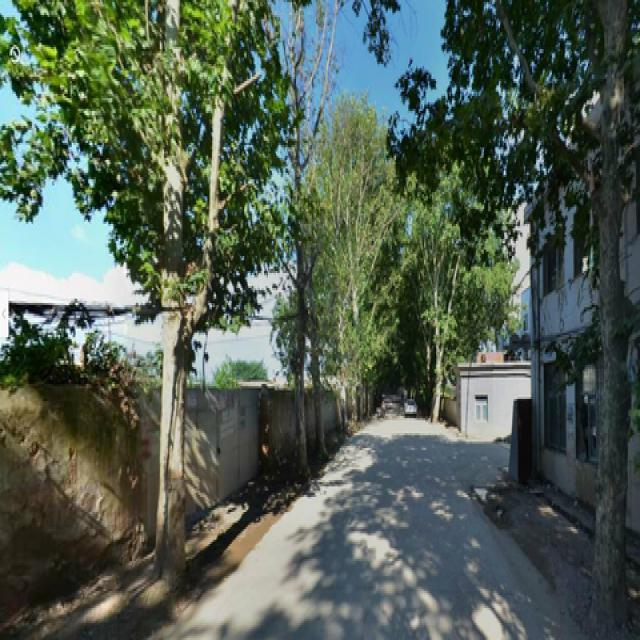meta: (81, 19, 224, 574), (492, 30, 625, 593)
